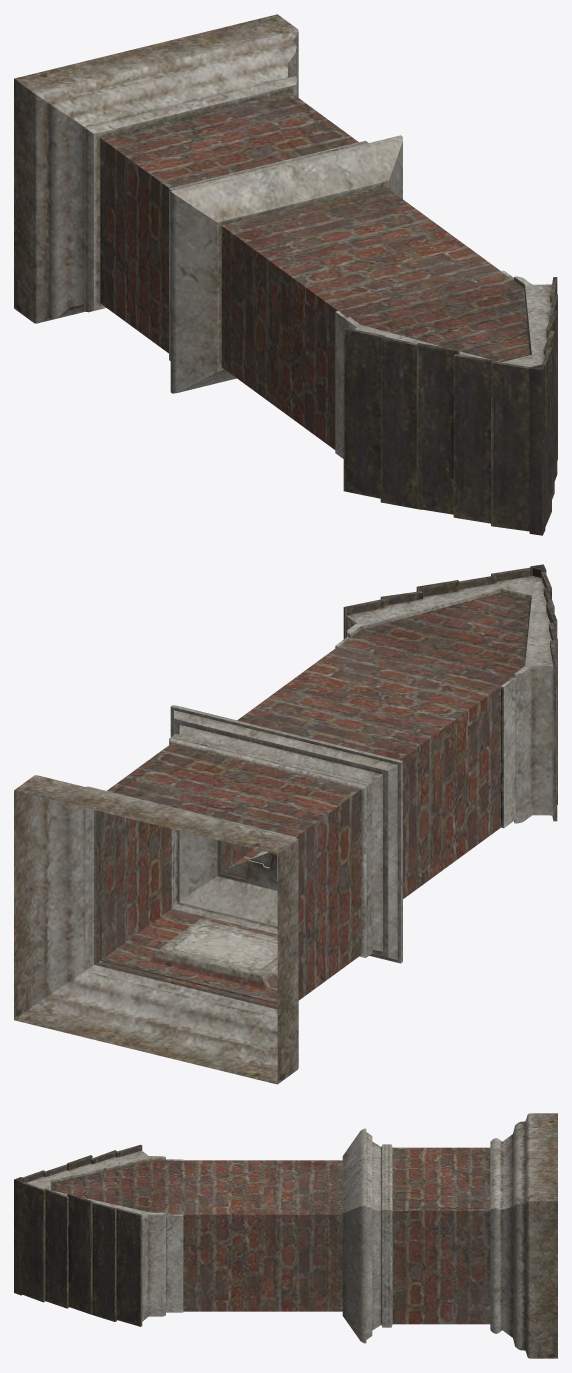
The model's file is hd_env_EU_066_Kaplichka.fbx.
The picture shows the model from 3 angles, top to bottom: view 1: azimuth 30°, elevation 25°; view 2: azimuth 150°, elevation 25°; view 3: azimuth 270°, elevation 25°; orthographic projection. The views are drawn at different scales.
Parts seen in each view (by area): view 1: set_0_group_0; view 2: set_0_group_0; view 3: set_0_group_0.
Boxes of the visible parts, x1,y1,x2,y2 form: set_0_group_0: [14, 14, 557, 535]; set_0_group_0: [14, 564, 557, 1084]; set_0_group_0: [14, 1113, 557, 1358].
Bounding box in the file's own units: 136 × 113 × 354.
